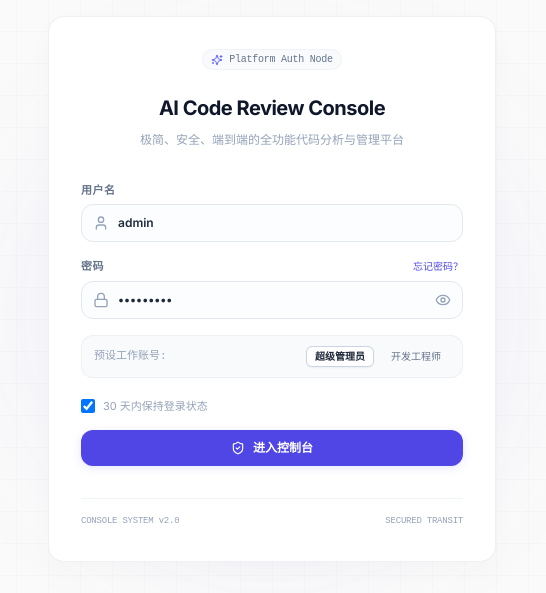
Scenario: 切换预设工作账号时同步更新用户名和密码
Click the button "开发工程师" at (416, 356), box x1=382 y1=346 x2=450 y2=367
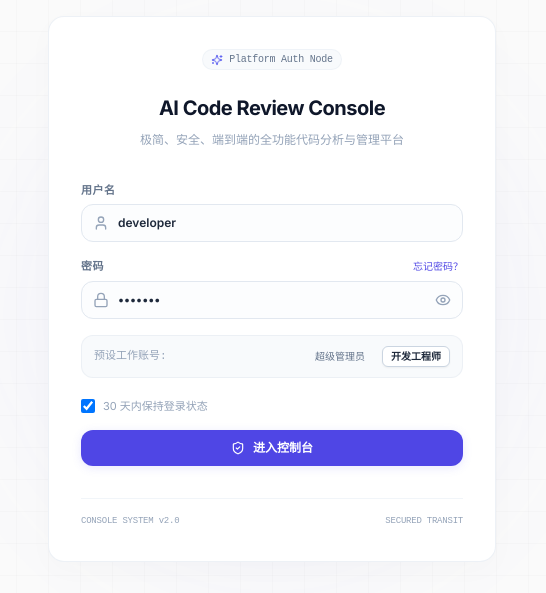
Check: the field labelled "用户名" holds "developer", box x1=81 y1=204 x2=463 y2=242
Check: the password field labelled "密码" holds "dev2026", box x1=81 y1=281 x2=463 y2=319
Click the button "超级管理员" at (340, 356), box x1=306 y1=346 x2=374 y2=367
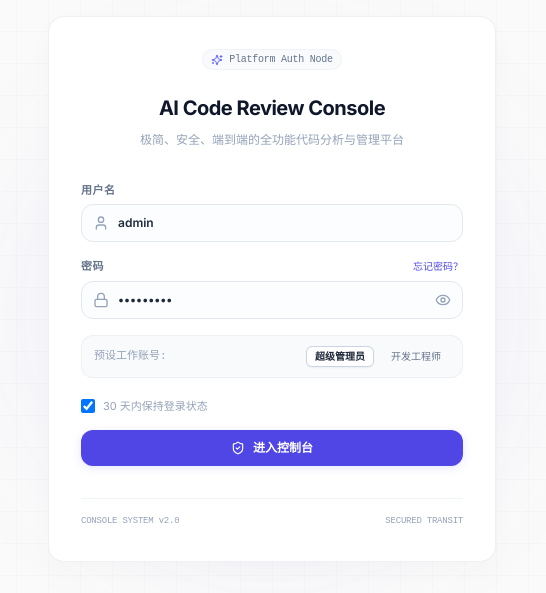
Check: the field labelled "用户名" holds "admin", box x1=81 y1=204 x2=463 y2=242
Check: the password field labelled "密码" holds "admin2026", box x1=81 y1=281 x2=463 y2=319
